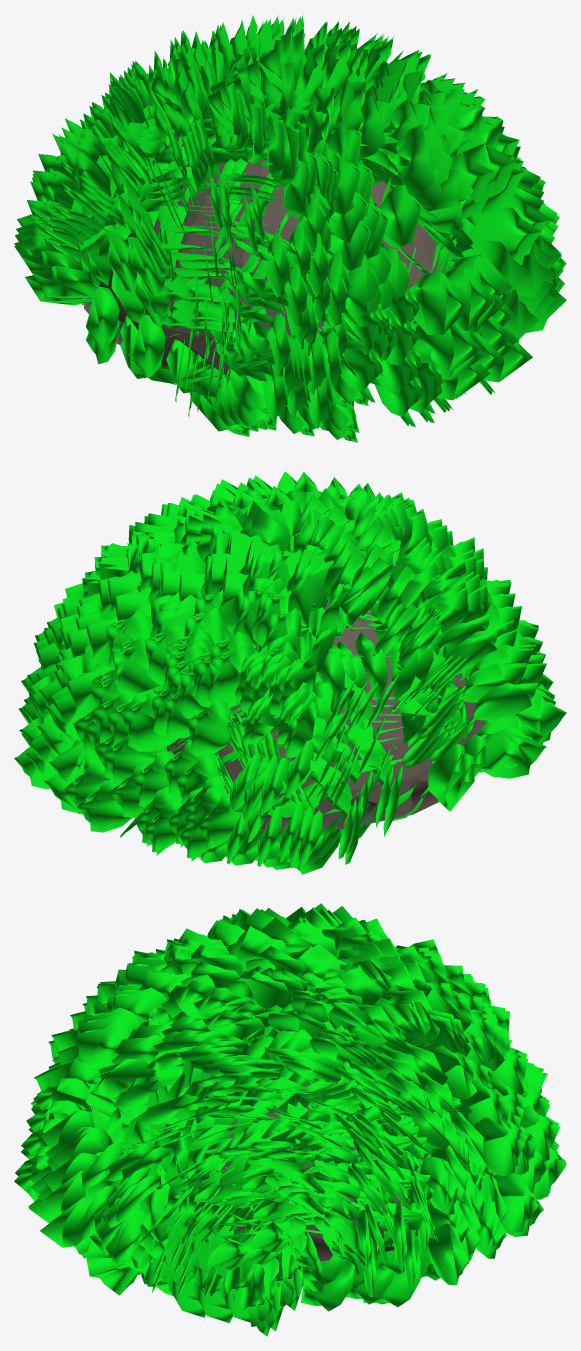
The model's file is kudzu_FINALIHOPE.fbx.
3 views of the same model, one above another, from view 1: azimuth 30°, elevation 25°; view 2: azimuth 150°, elevation 25°; view 3: azimuth 270°, elevation 25° (orthographic). The views are drawn at different scales.
Visible parts, largest first — view 1: kudzu_final, kudzu_final.001; view 2: kudzu_final, kudzu_final.001; view 3: kudzu_final, kudzu_final.001.
Part boxes in pixels (<box>): kudzu_final: <box>14,15,566,442</box>; kudzu_final.001: <box>84,132,449,380</box>; kudzu_final: <box>14,471,566,874</box>; kudzu_final.001: <box>166,600,485,831</box>; kudzu_final: <box>14,903,566,1336</box>; kudzu_final.001: <box>107,1082,429,1261</box>.
Bounding box in the file's own units: 271 × 182 × 278.
